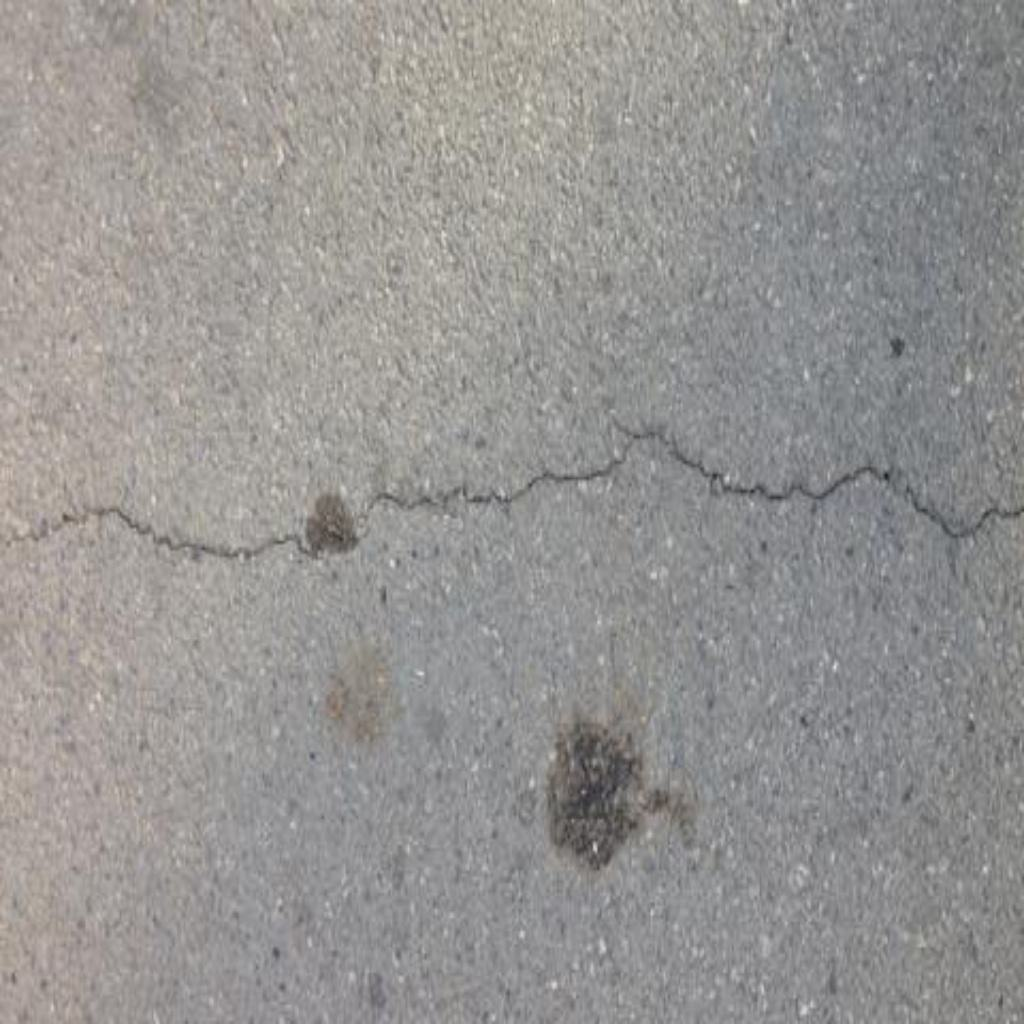Crack: (350, 415, 1024, 542), (1, 506, 331, 564)
